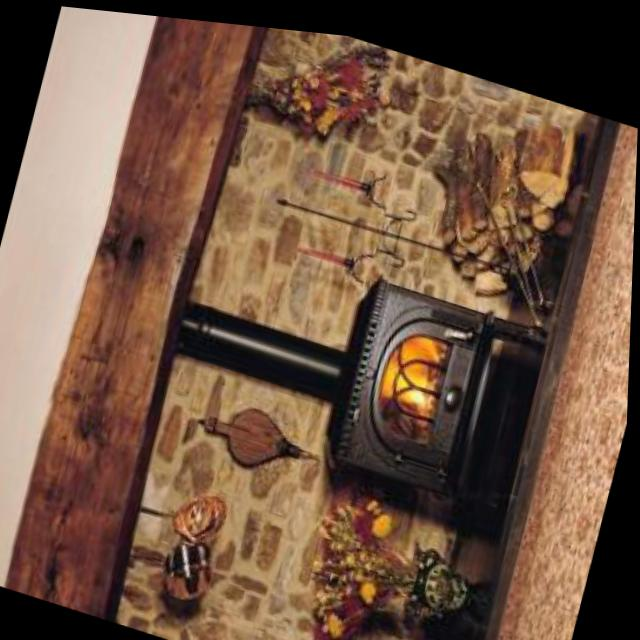Fire: (374, 305, 457, 414)
